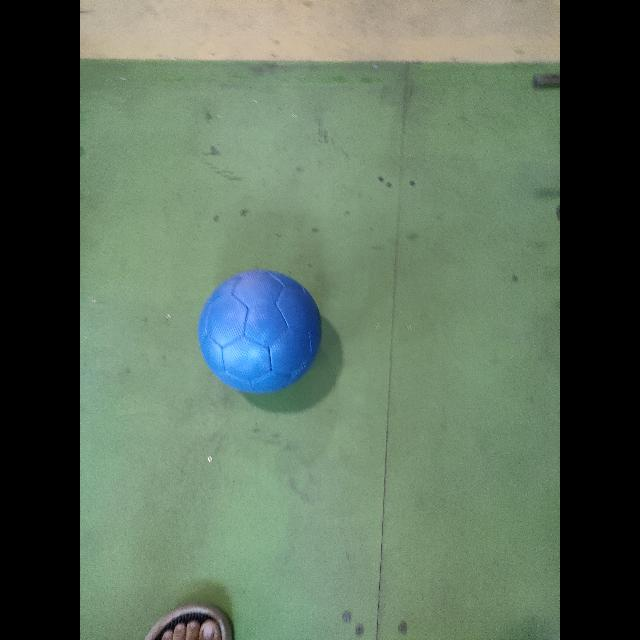B: (197, 270, 323, 396)
